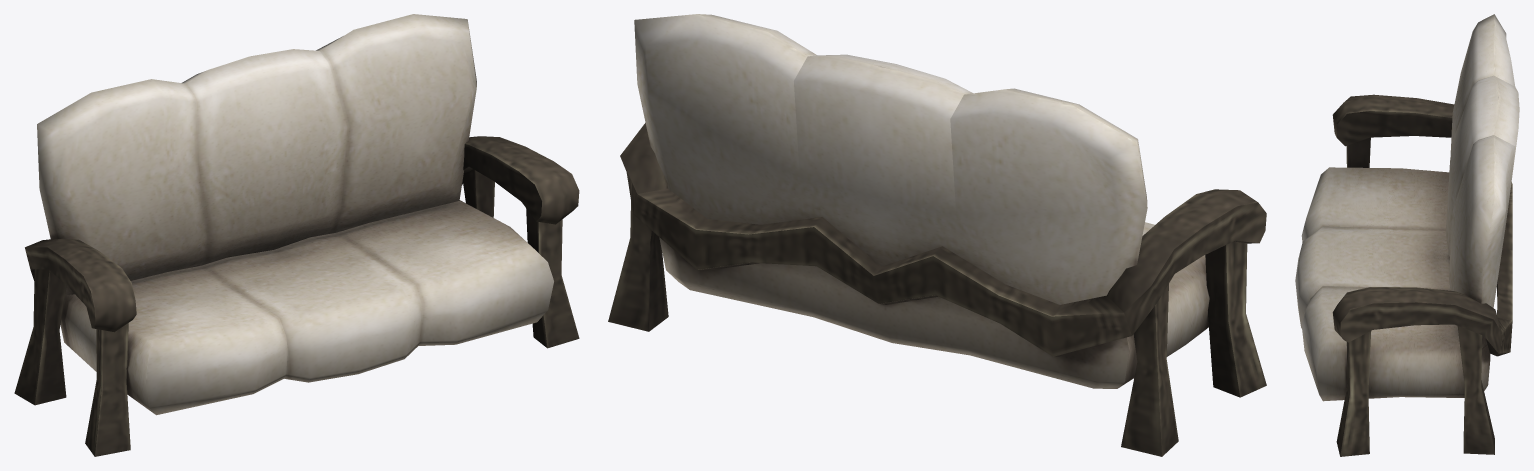
Rendered from ColonialSofa_HD.fbx.
3 views of the same model, side by side, from view 1: azimuth 30°, elevation 25°; view 2: azimuth 150°, elevation 25°; view 3: azimuth 270°, elevation 25° (orthographic). The views are drawn at different scales.
Visible parts, largest first — view 1: ColonialSofa; view 2: ColonialSofa; view 3: ColonialSofa.
Part boxes in pixels (x1,y1,x2,y2): ColonialSofa: (14,14,579,456); ColonialSofa: (608,14,1266,456); ColonialSofa: (1295,14,1519,456).
Bounding box in the file's own units: 1.95 × 1.08 × 0.8588.
